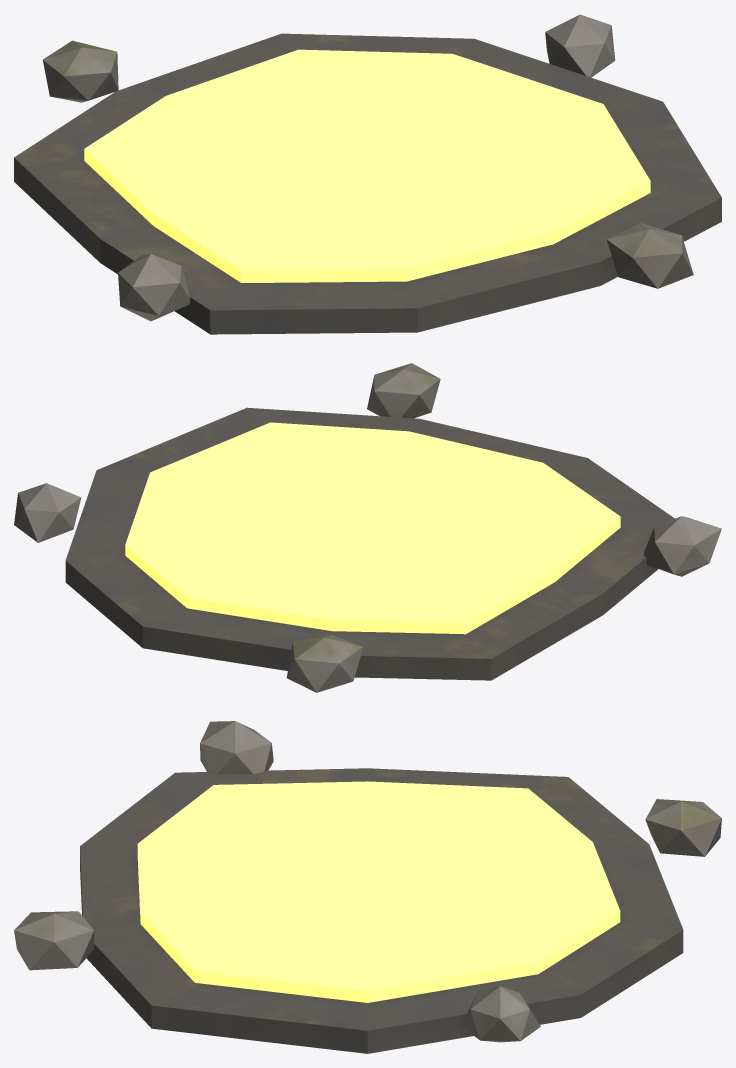
Rendered from poca_seiva.glb.
3 views of the same model, one above another, from view 1: azimuth 30°, elevation 25°; view 2: azimuth 150°, elevation 25°; view 3: azimuth 270°, elevation 25° (orthographic). The views are drawn at different scales.
Visible parts, largest first — view 1: poca_seiva; view 2: poca_seiva; view 3: poca_seiva.
Boxes of the visible parts, left/top/right/bottom form: poca_seiva: left=14, top=14, right=721, bottom=334; poca_seiva: left=14, top=363, right=721, bottom=692; poca_seiva: left=14, top=721, right=721, bottom=1053.
Size of the model in its own units: 0.8187 by 0.0837 by 0.8325.
2 materials, 1 textured.
